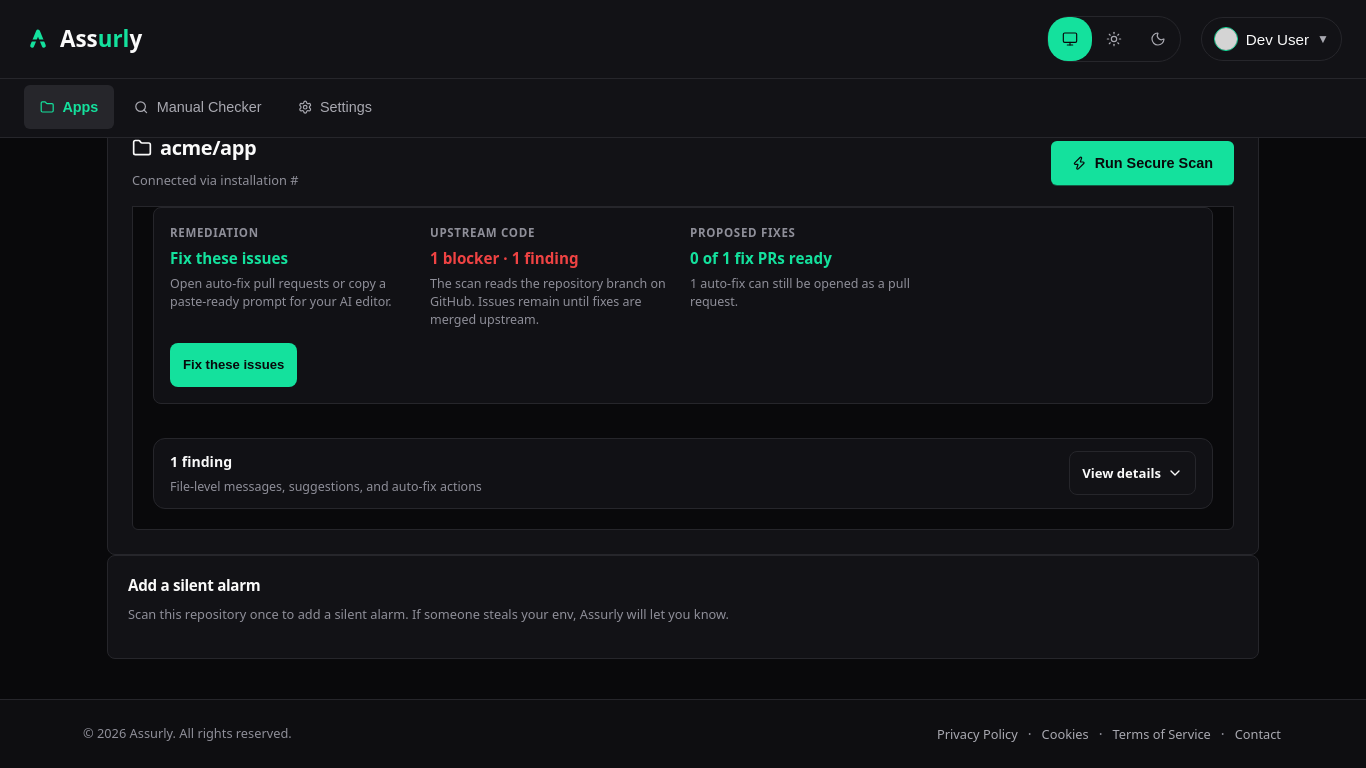
Scenario: Auto-fix PR — handleCreateFixPr › surfaces the API error message in the toast when createFix fails with ClientApiError
(page scrolled)
Click the heading with test id "scan-findings-details-toggle" at (201, 462), box [154,439,1212,508]
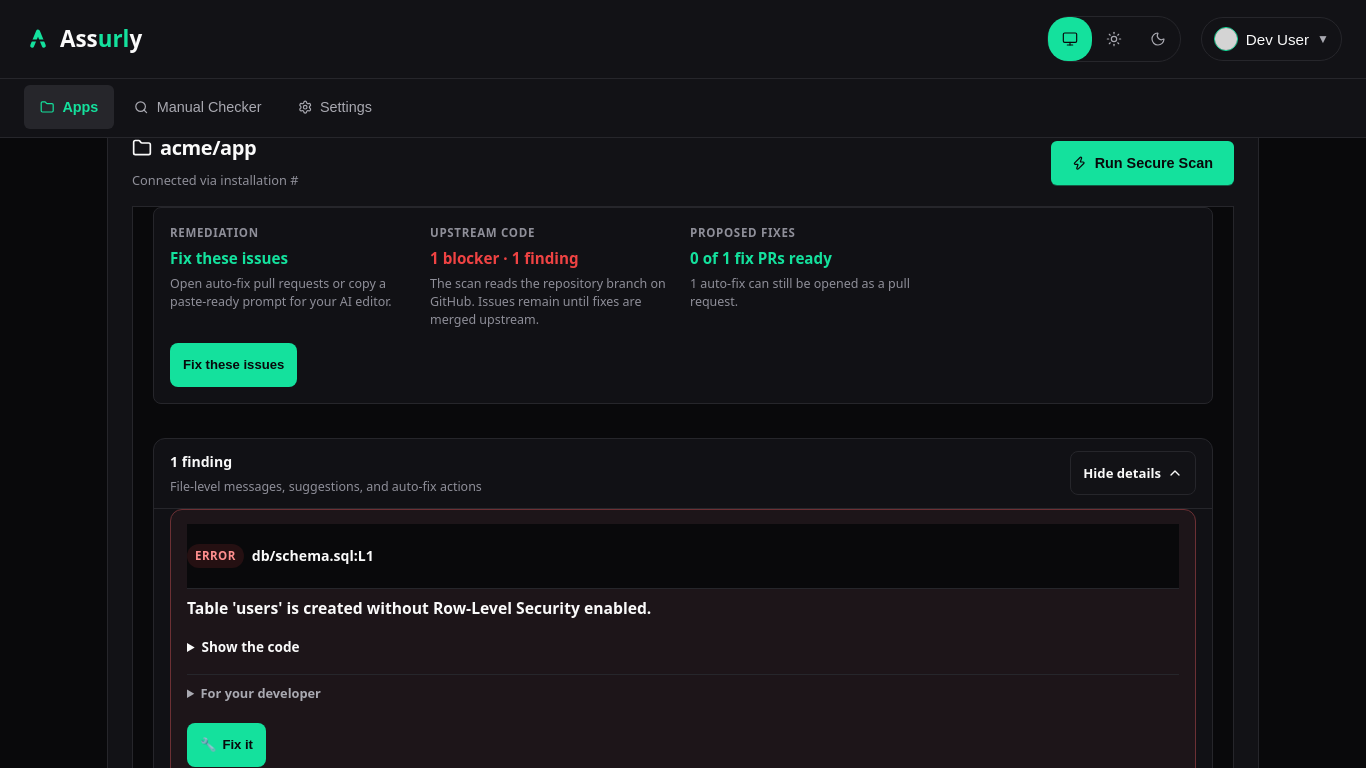
Expected: the button "🔧 Fix it" is shown
Click the button "🔧 Fix it" at (226, 745), box [187,723,266,767]
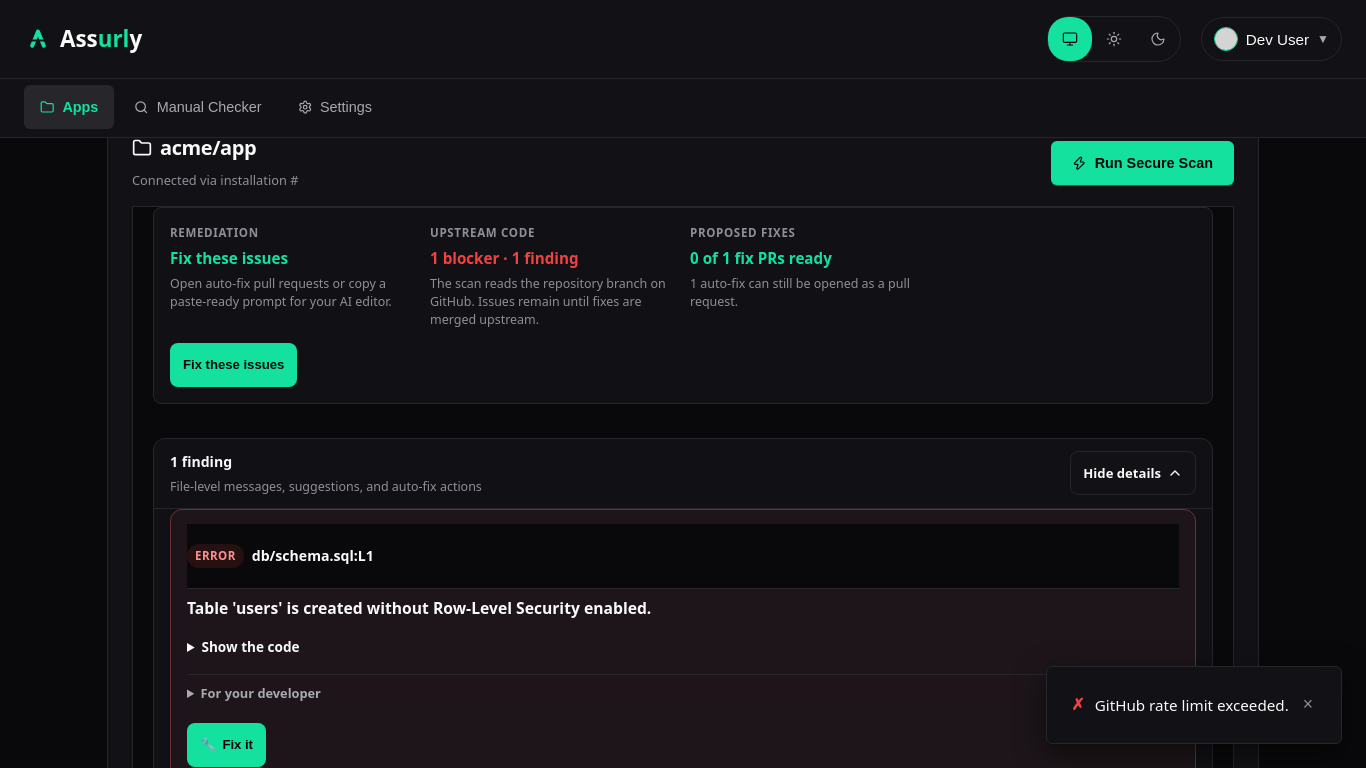
Expected: the message shows "GitHub rate limit exceeded.", [1095,695,1289,715]
